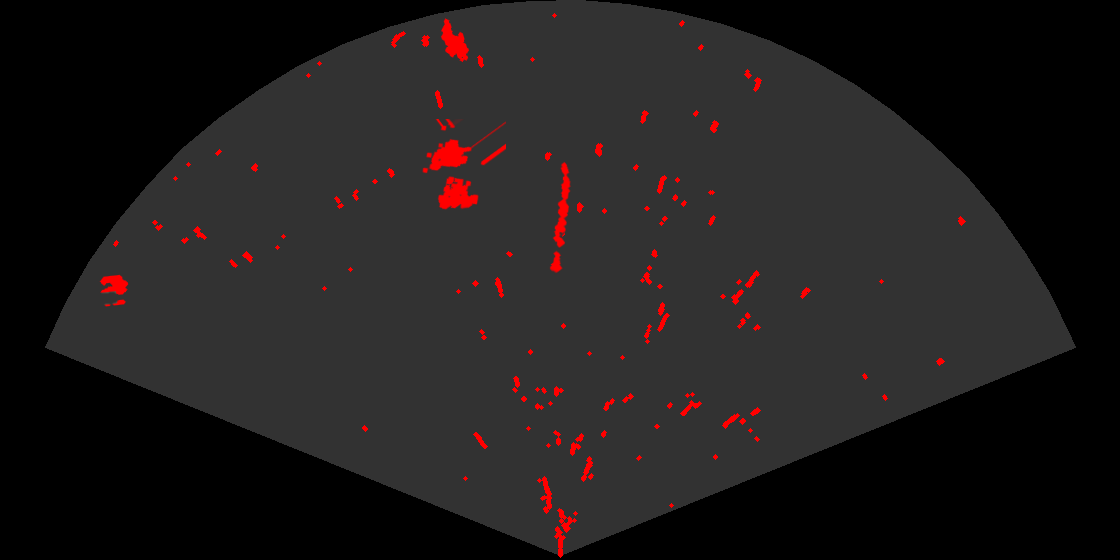AUV: (439, 17, 471, 64)
ball: (98, 273, 130, 308)
cage: (421, 119, 506, 211)
chain: (548, 160, 572, 275)
